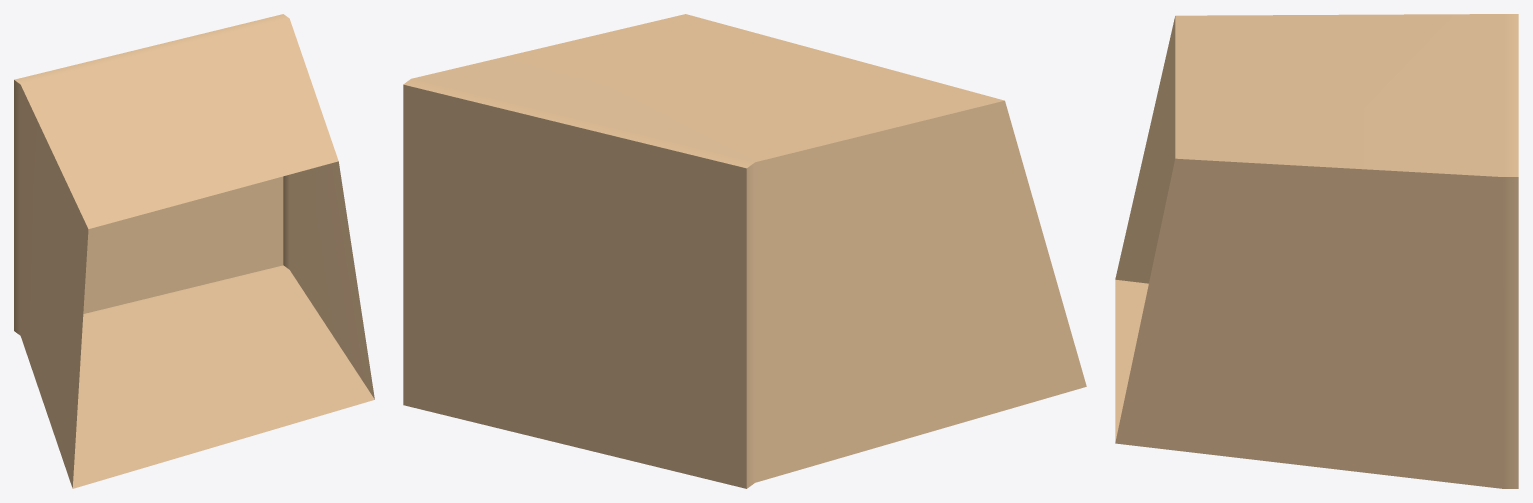
The model's file is AI_FX_LightRay_05.fbx.
3 views of the same model, side by side, from view 1: azimuth 30°, elevation 25°; view 2: azimuth 150°, elevation 25°; view 3: azimuth 270°, elevation 25° (orthographic). The views are drawn at different scales.
Parts seen in each view (by area): view 1: AI_FX_LightRay_05; view 2: AI_FX_LightRay_05; view 3: AI_FX_LightRay_05.
Boxes of the visible parts, x1,y1,x2,y2 form: AI_FX_LightRay_05: (14, 14, 374, 488); AI_FX_LightRay_05: (403, 14, 1086, 488); AI_FX_LightRay_05: (1115, 14, 1518, 488).
Bounding box in the file's own units: 6.09 × 4.13 × 4.6.
